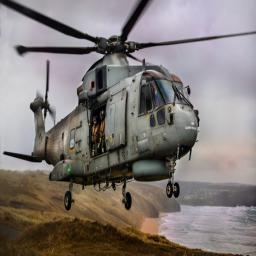helicopter: (1, 2, 256, 211)
